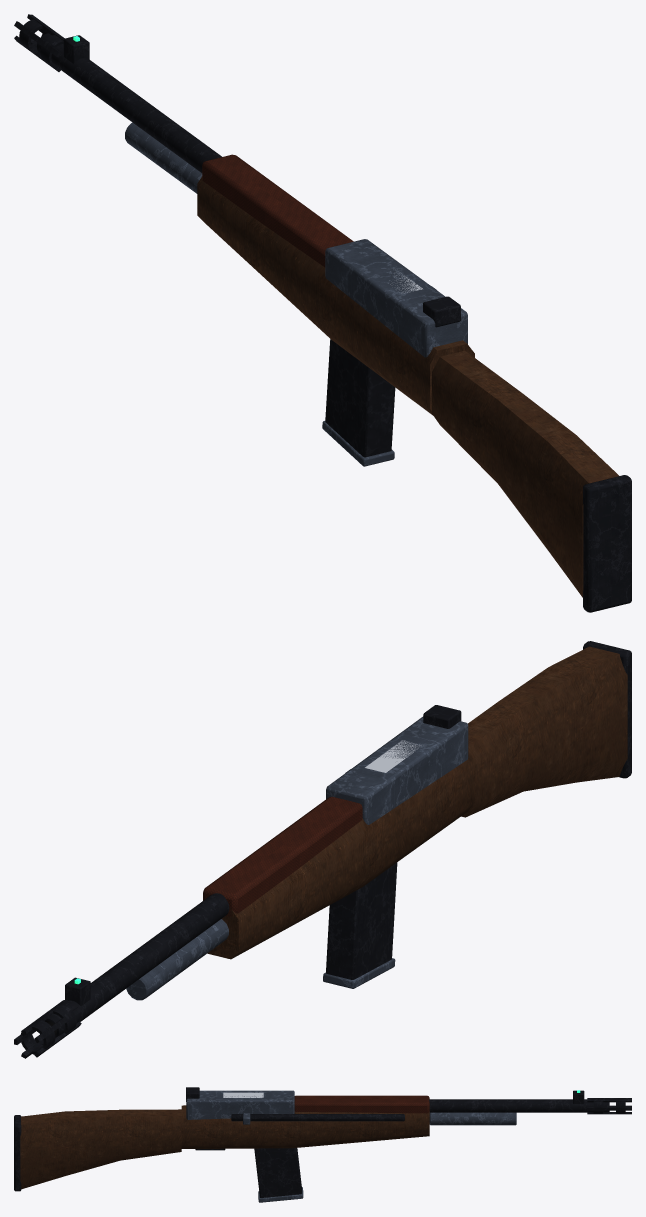
3 views of the same model, one above another, from view 1: azimuth 30°, elevation 25°; view 2: azimuth 150°, elevation 25°; view 3: azimuth 270°, elevation 25° (orthographic). The views are drawn at different scales.
Visible parts, largest first — view 1: Receiver, Magazine; view 2: Receiver, Magazine, Bolt; view 3: Receiver, Magazine, Bolt.
Boxes of the visible parts, x1,y1,x2,y2 form: Receiver: [14, 14, 631, 612]; Magazine: [322, 339, 395, 466]; Receiver: [14, 641, 631, 1058]; Magazine: [323, 862, 397, 988]; Bolt: [345, 740, 421, 772]; Receiver: [14, 1087, 631, 1191]; Magazine: [254, 1148, 303, 1202]; Bolt: [223, 1092, 404, 1124].
Bounding box in the file's own units: 0.066 × 0.1936 × 0.996.
7 materials, 4 textured.
